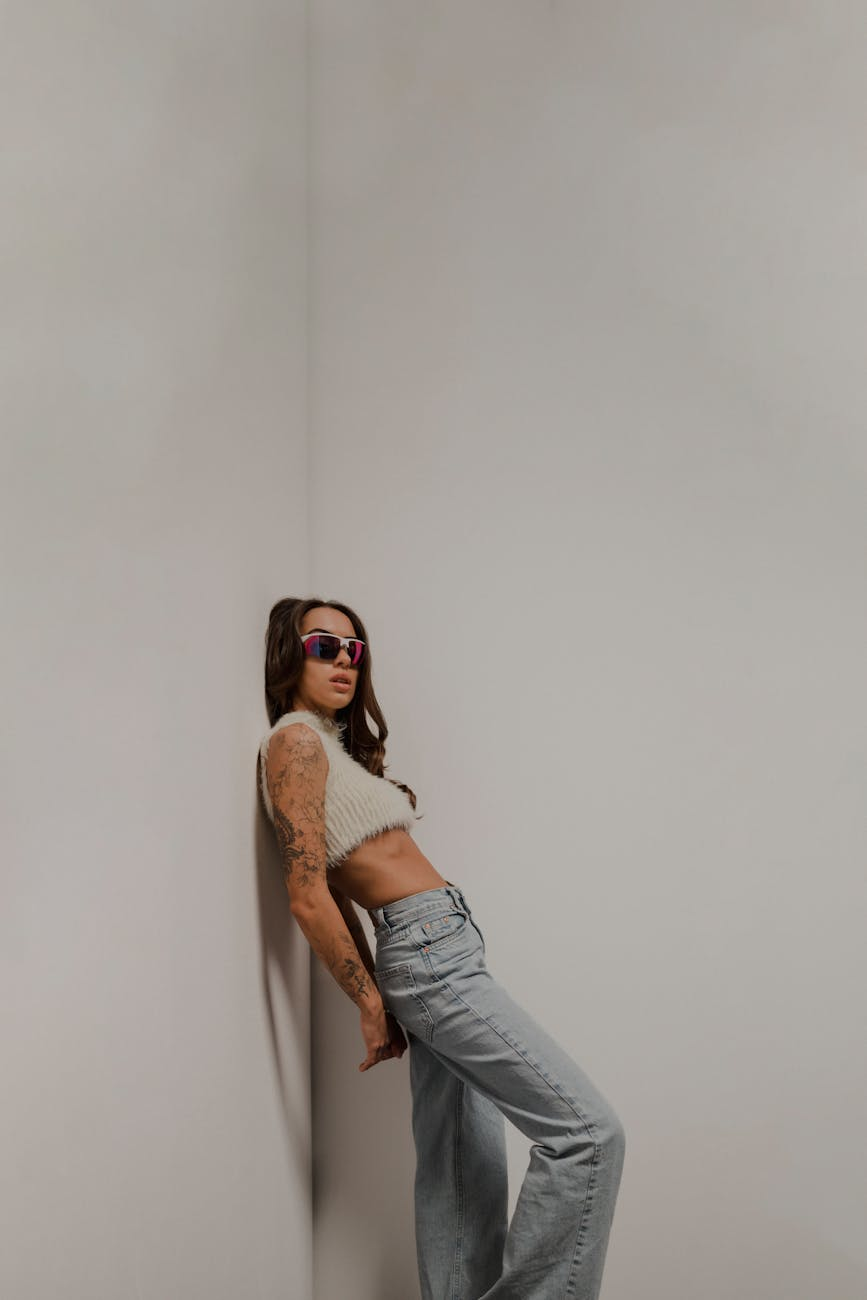crop_top: (256, 717, 419, 869)
